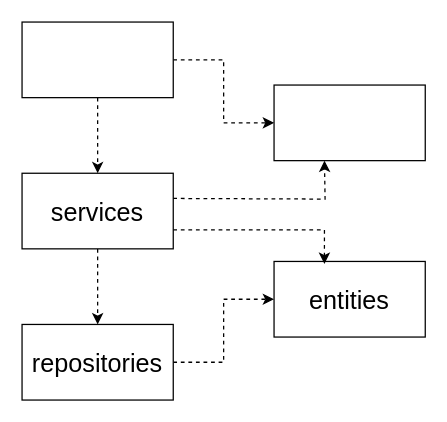
Some shapes in this 447 by 422 pixel diagram are drawn without their labels. The shapes that lost their labels are listed below. From the top down, each one's centre as x and y in pixels, then its label:
At point (97, 59): "ui".
At point (349, 122): "errors".
